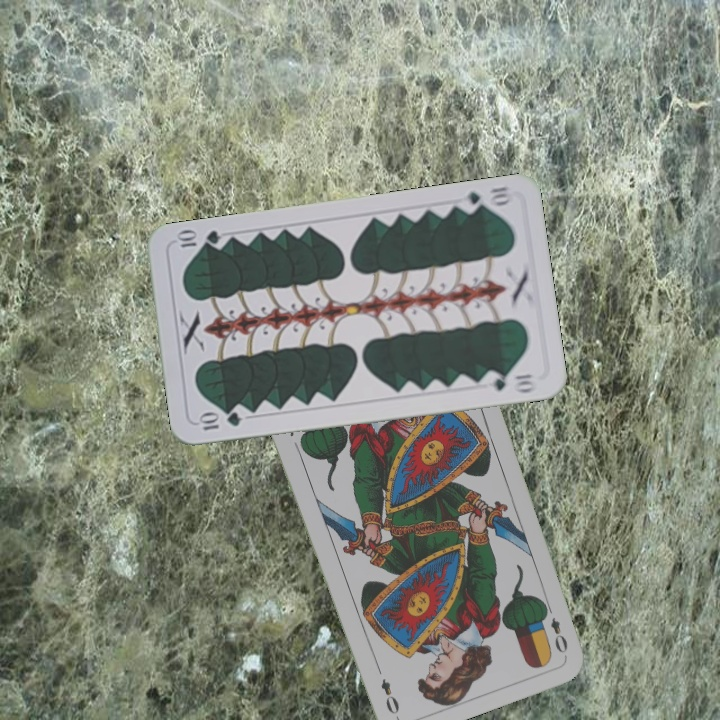EO: (540, 599, 570, 656)
G10: (455, 182, 516, 215), (195, 408, 244, 433)
